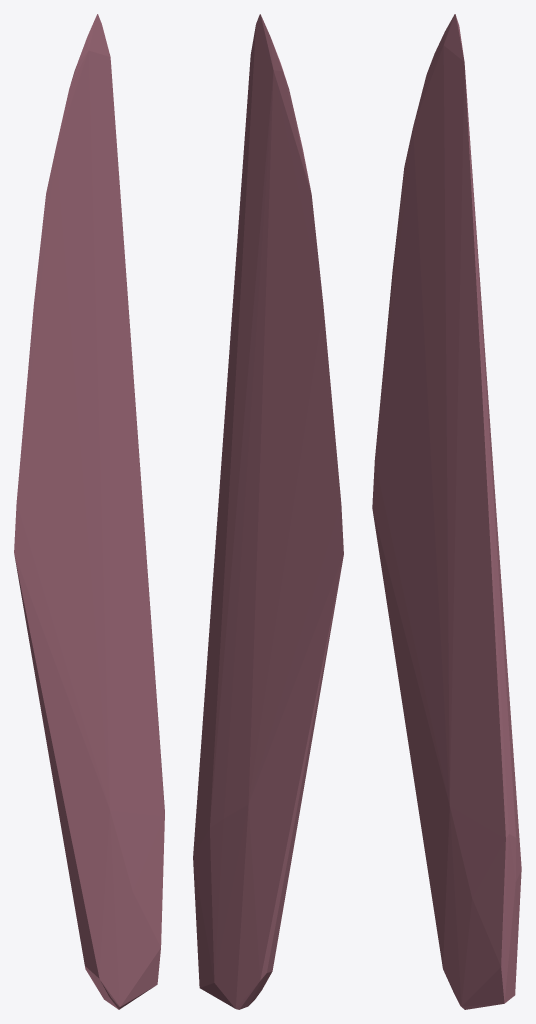
File: kitchenware_knife_v01.glb
The picture shows the model from 3 angles, left to right: view 1: azimuth 30°, elevation 25°; view 2: azimuth 150°, elevation 25°; view 3: azimuth 330°, elevation 25°; orthographic projection.
Parts seen in each view (by area): view 1: geometry_0; view 2: geometry_0; view 3: geometry_0.
Boxes of the visible parts, x1=… form: geometry_0: x1=14, y1=14, x2=164, y2=1009; geometry_0: x1=193, y1=14, x2=343, y2=1009; geometry_0: x1=372, y1=14, x2=521, y2=1009.
Size of the model in its own units: 0.0731 by 0.4794 by 0.0158.
